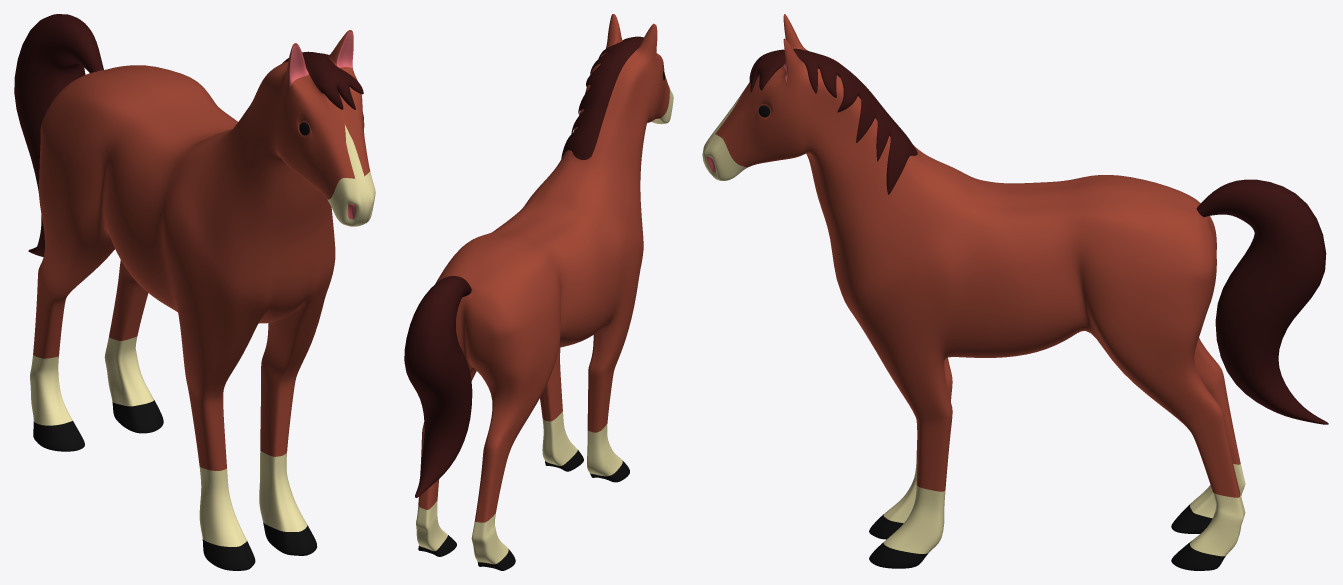
Rendered from horse.glb.
The picture shows the model from 3 angles, left to right: view 1: azimuth 30°, elevation 25°; view 2: azimuth 150°, elevation 25°; view 3: azimuth 270°, elevation 25°; orthographic projection. The views are drawn at different scales.
Visible parts, largest first — view 1: Cube.001; view 2: Cube.001; view 3: Cube.001.
Part boxes in pixels (x1,y1,x2,y2): Cube.001: [14, 14, 375, 570]; Cube.001: [404, 14, 673, 570]; Cube.001: [702, 14, 1328, 570].
Bounding box in the file's own units: 15.36 × 54.92 × 59.93.
